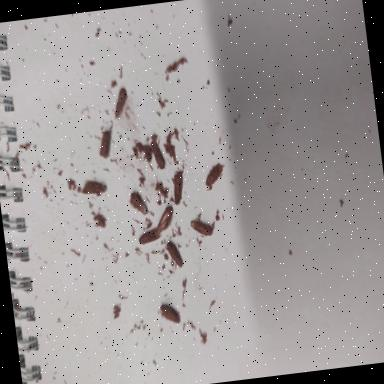pbw: (156, 298, 183, 328), (189, 212, 213, 238), (146, 142, 168, 170), (170, 169, 188, 202), (165, 236, 184, 267), (126, 195, 151, 217), (158, 201, 176, 231), (135, 227, 163, 246), (84, 174, 108, 196), (98, 129, 115, 158), (112, 87, 128, 115), (204, 168, 223, 186)
